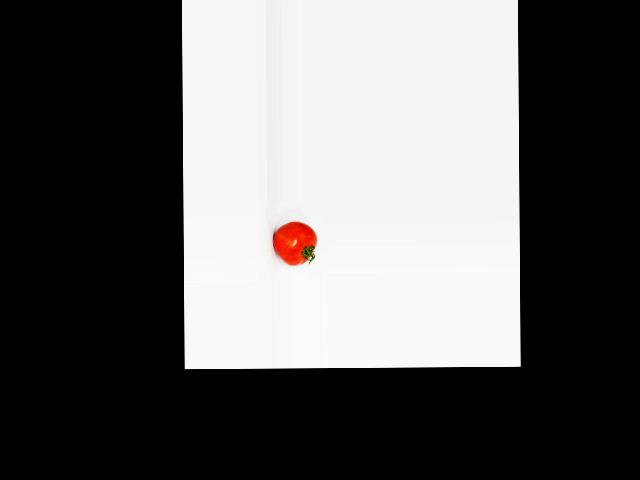tomato: (273, 221, 317, 265)
